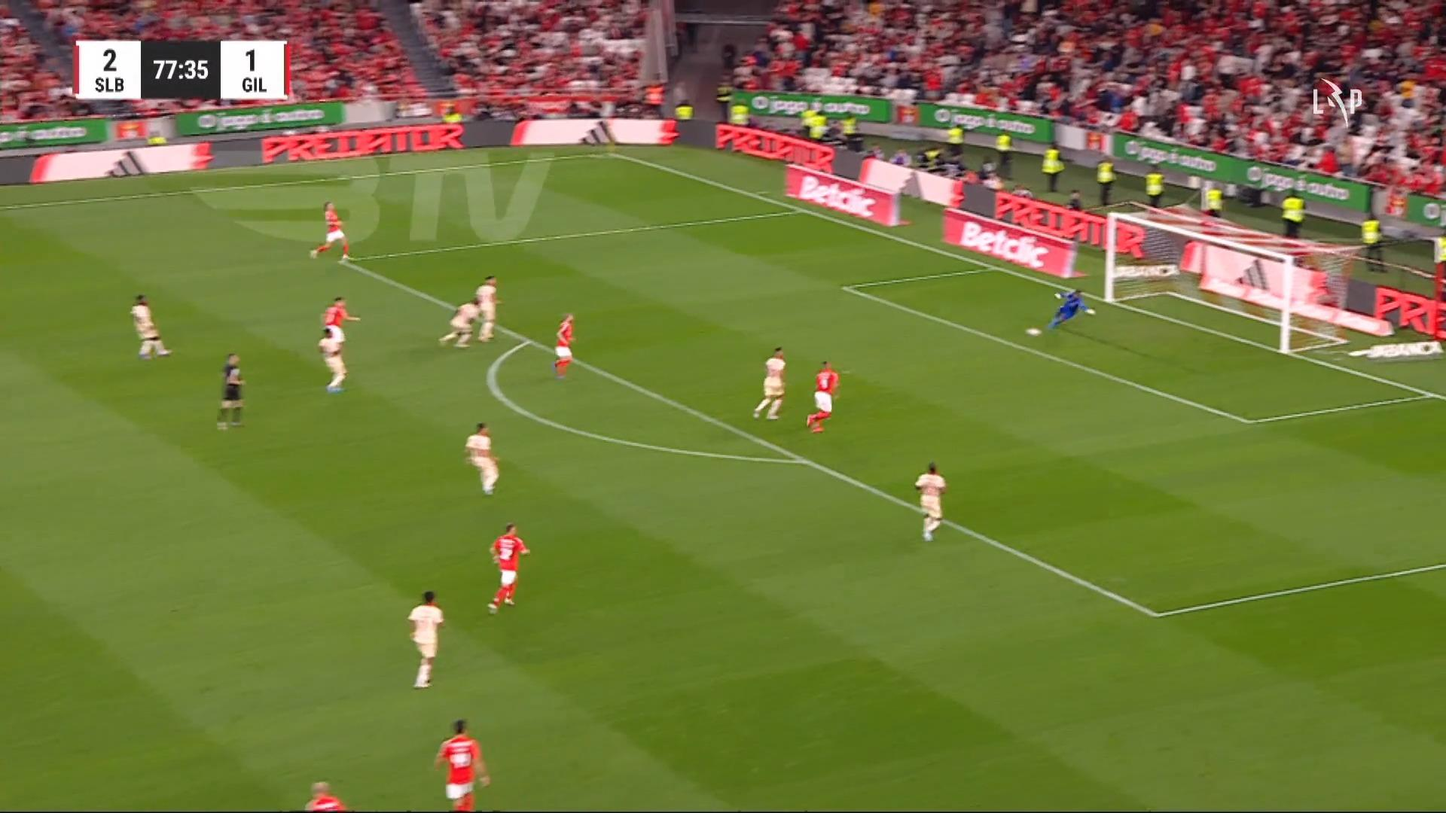ball: (1026, 327, 1041, 336)
goalkeeper: (1046, 287, 1096, 330)
player: (433, 718, 490, 811), (487, 522, 530, 614), (406, 589, 445, 688), (129, 293, 172, 359), (463, 422, 500, 495), (308, 200, 352, 261), (914, 460, 947, 541), (805, 359, 839, 434), (752, 346, 786, 420), (322, 296, 360, 355), (438, 297, 481, 348), (317, 326, 346, 392), (473, 274, 501, 341), (552, 312, 575, 378), (304, 780, 346, 811)
referee: (215, 352, 246, 430)
